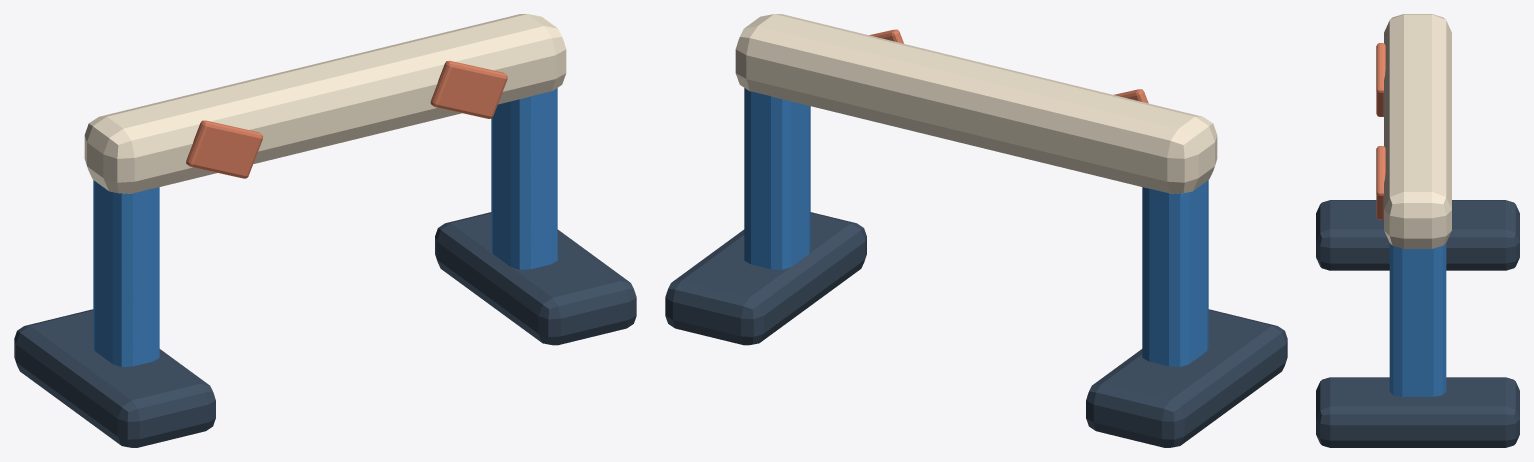
File: CR_Hurdle.fbx
3 renders of one model, left to right at view 1: azimuth 30°, elevation 25°; view 2: azimuth 150°, elevation 25°; view 3: azimuth 270°, elevation 25°, orthographic. The views are drawn at different scales.
Parts seen in each view (by area): view 1: Bar_Cream, Foot_Ink_L, Foot_Ink_R, Post_Cobalt_L, Post_Cobalt_R, Stripe_Terracotta_L, Stripe_Terracotta_R; view 2: Bar_Cream, Foot_Ink_L, Foot_Ink_R, Post_Cobalt_L, Post_Cobalt_R; view 3: Bar_Cream, Foot_Ink_R, Foot_Ink_L, Post_Cobalt_R, Stripe_Terracotta_R, Stripe_Terracotta_L.
Boxes of the visible parts, x1,y1,x2,y2 form: Bar_Cream: (84, 14, 566, 193); Foot_Ink_L: (14, 309, 215, 447); Foot_Ink_R: (435, 212, 636, 345); Post_Cobalt_L: (93, 180, 159, 366); Post_Cobalt_R: (491, 88, 557, 269); Stripe_Terracotta_L: (186, 120, 263, 178); Stripe_Terracotta_R: (430, 60, 507, 118); Bar_Cream: (735, 14, 1217, 193); Foot_Ink_L: (1086, 309, 1287, 447); Foot_Ink_R: (665, 212, 866, 345); Post_Cobalt_L: (1142, 180, 1208, 366); Post_Cobalt_R: (744, 88, 810, 269); Bar_Cream: (1384, 14, 1451, 248); Foot_Ink_R: (1316, 377, 1519, 447); Foot_Ink_L: (1316, 200, 1519, 270); Post_Cobalt_R: (1389, 243, 1446, 396); Stripe_Terracotta_R: (1376, 146, 1385, 219); Stripe_Terracotta_L: (1376, 43, 1385, 116).
Bounding box in the file's own units: 1.82 × 0.9406 × 0.72.
